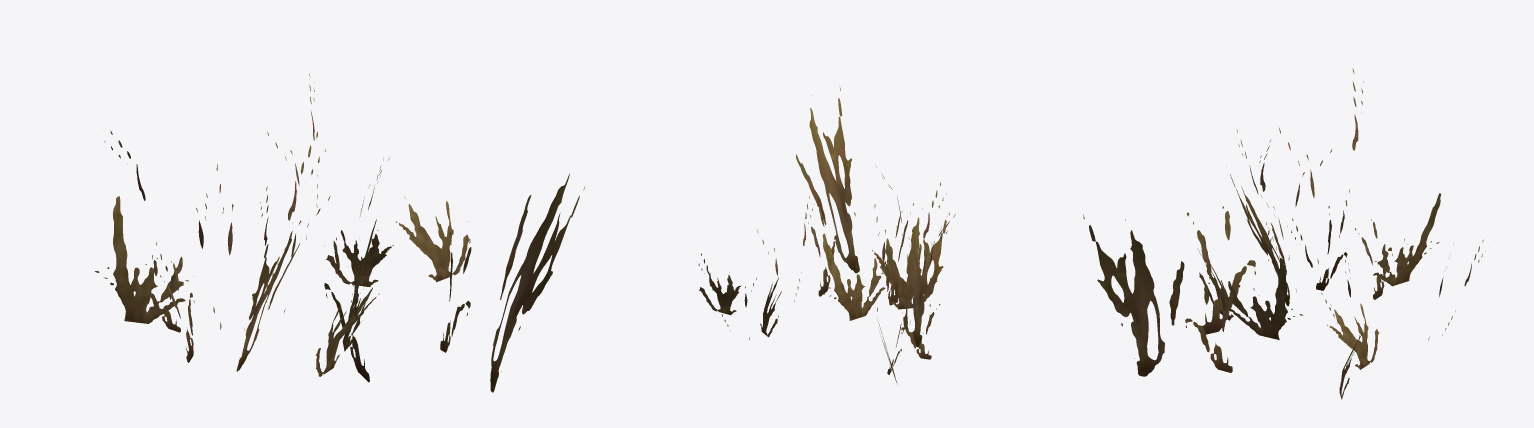
3 renders of one model, left to right at view 1: azimuth 30°, elevation 25°; view 2: azimuth 150°, elevation 25°; view 3: azimuth 270°, elevation 25°, orthographic. The views are drawn at different scales.
Visible parts, largest first — view 1: grasspatch2; view 2: grasspatch2; view 3: grasspatch2.
Boxes of the visible parts, x1,y1,x2,y2 form: grasspatch2: [95, 73, 584, 392]; grasspatch2: [698, 86, 955, 383]; grasspatch2: [1083, 68, 1485, 399].
Bounding box in the file's own units: 0.7861 × 0.5843 × 0.8478.
Materials: 1 (1 with a texture image).
